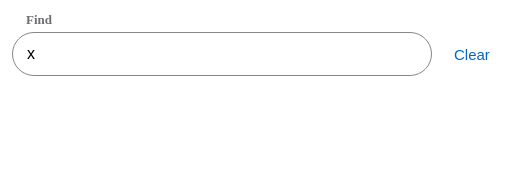
it: index pieces › clears a live search and puts focus back in the field
Click the button with class "rs-plain": click(472, 54) [440,32,504,76]
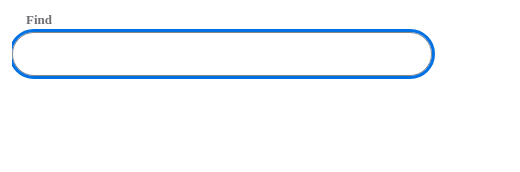
Check: the search field labelled "Find" is empty, box [12,32,432,76]
Check: the button with class "rs-plain" is gone
